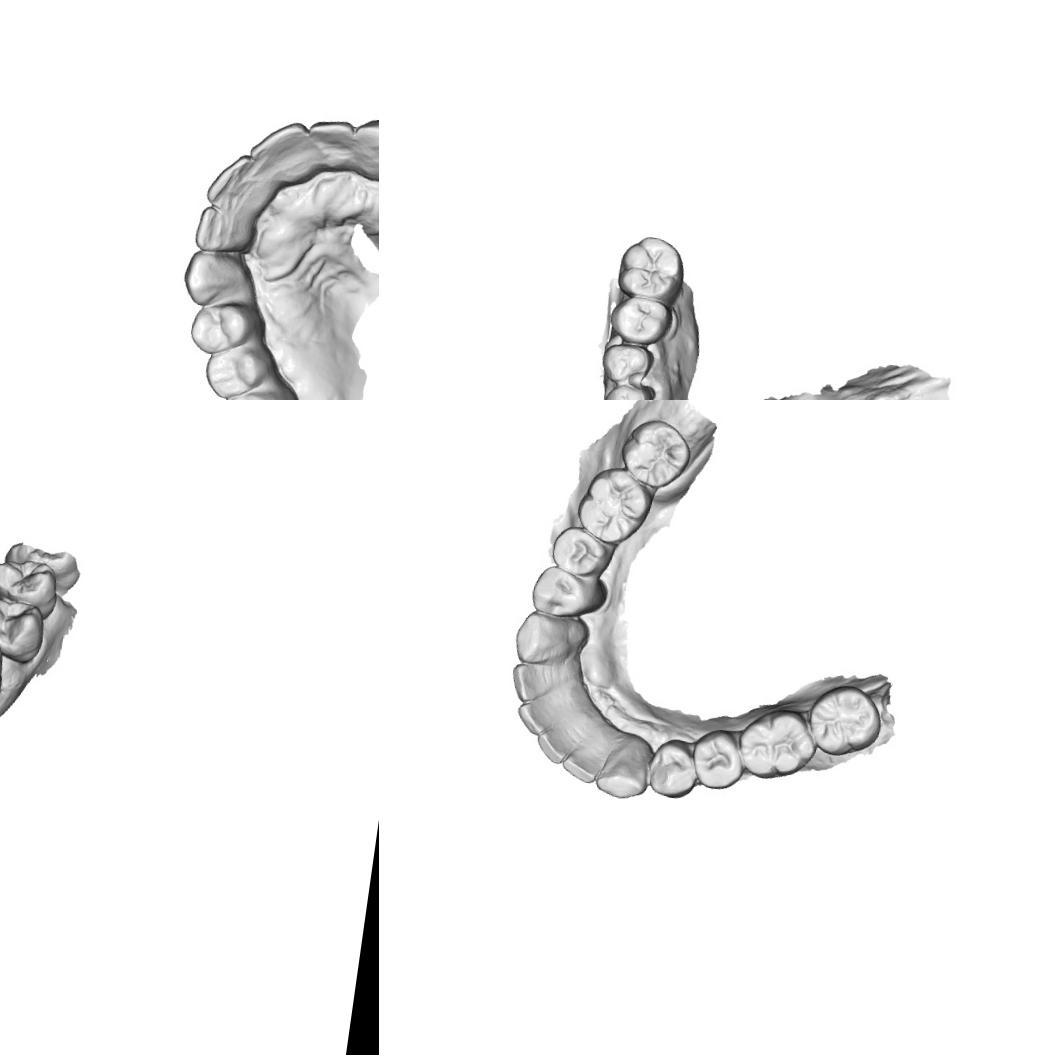canine: (177, 245, 259, 312), (510, 604, 580, 670), (591, 738, 656, 804), (346, 111, 379, 187), (600, 379, 656, 400)
incisor: (244, 111, 311, 177), (186, 202, 258, 258), (203, 148, 266, 208), (301, 113, 359, 174), (508, 657, 556, 710), (534, 718, 578, 768), (510, 695, 556, 740), (562, 739, 603, 782)
molar: (734, 702, 821, 786), (574, 461, 656, 549), (804, 682, 884, 762), (615, 414, 693, 492), (615, 232, 689, 306)
premolar: (184, 299, 261, 362), (527, 563, 603, 623), (200, 342, 274, 400), (641, 732, 703, 801), (0, 554, 61, 623), (691, 728, 751, 794), (606, 292, 675, 348), (546, 521, 610, 579), (0, 592, 48, 666), (599, 340, 656, 387)
